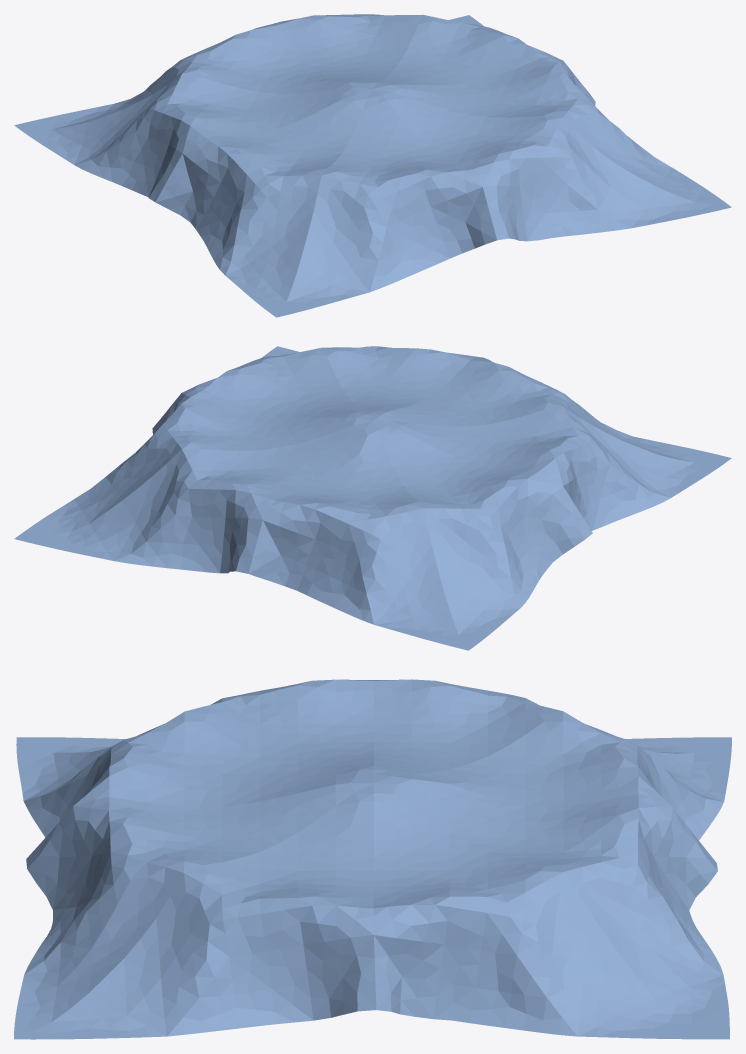
The model's file is level_1.glb.
The picture shows the model from 3 angles, top to bottom: view 1: azimuth 30°, elevation 25°; view 2: azimuth 150°, elevation 25°; view 3: azimuth 270°, elevation 25°; orthographic projection. The views are drawn at different scales.
Visible parts, largest first — view 1: world; view 2: world; view 3: world.
Part boxes in pixels (left/top/right/bottom): world: left=14, top=14, right=731, bottom=317; world: left=14, top=346, right=731, bottom=650; world: left=14, top=679, right=731, bottom=1039.
Size of the model in its own units: 0.6023 by 0.0977 by 0.6045.
